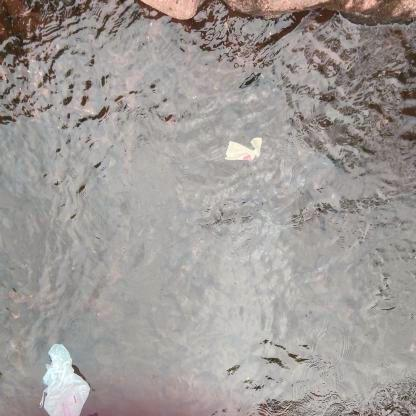Plastic: (34, 332, 93, 416), (218, 127, 272, 168)
